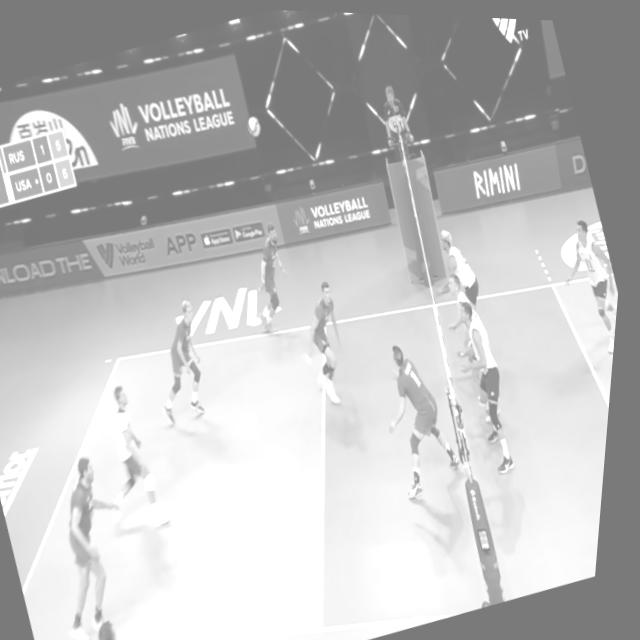player: (30, 450, 156, 640), (365, 328, 483, 505), (441, 289, 542, 477), (83, 379, 191, 543), (546, 207, 628, 360), (139, 294, 233, 426), (293, 273, 376, 408), (237, 216, 314, 335), (421, 215, 495, 311), (438, 269, 498, 349)
